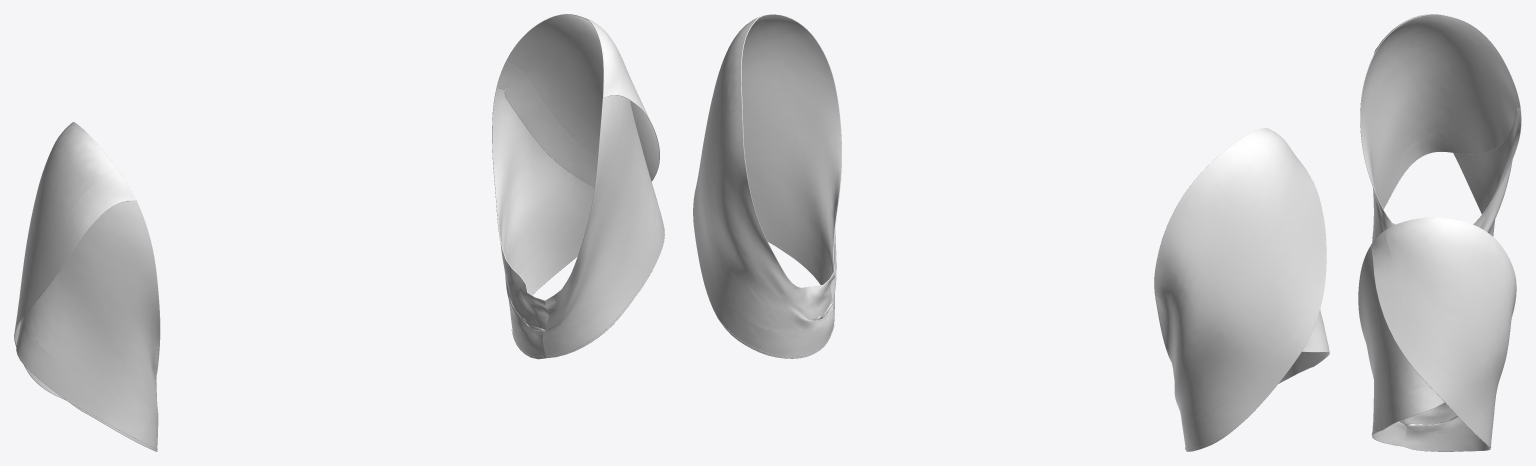
Rendered from petal_sleeve.glb.
The picture shows the model from 3 angles, left to right: view 1: azimuth 30°, elevation 25°; view 2: azimuth 150°, elevation 25°; view 3: azimuth 270°, elevation 25°; orthographic projection. The views are drawn at different scales.
Parts seen in each view (by area): view 1: sleeve_Node, sleeve_2_Node, sleeve_3_Node, Contrast_Node, sleeve_1_Node, Contrast_2_Node, Contrast_1_Node, Contrast_3_Node; view 2: sleeve_1_Node, sleeve_Node, sleeve_3_Node, Contrast_3_Node, Contrast_1_Node, Contrast_Node, Contrast_2_Node; view 3: sleeve_3_Node, sleeve_2_Node, Contrast_1_Node, sleeve_Node, Contrast_2_Node, sleeve_1_Node, Contrast_Node, Contrast_3_Node.
Boxes of the visible parts, bbox=[...] form: sleeve_Node: bbox=[506, 14, 658, 336]; sleeve_2_Node: bbox=[23, 122, 160, 429]; sleeve_3_Node: bbox=[492, 14, 644, 335]; Contrast_Node: bbox=[497, 61, 664, 358]; sleeve_1_Node: bbox=[19, 122, 117, 300]; Contrast_2_Node: bbox=[16, 317, 157, 451]; Contrast_1_Node: bbox=[510, 64, 659, 359]; Contrast_3_Node: bbox=[14, 170, 136, 400]; sleeve_1_Node: bbox=[1154, 128, 1310, 426]; sleeve_Node: bbox=[741, 14, 841, 307]; sleeve_3_Node: bbox=[696, 14, 834, 334]; Contrast_3_Node: bbox=[1182, 146, 1326, 451]; Contrast_1_Node: bbox=[693, 22, 833, 358]; Contrast_Node: bbox=[743, 133, 834, 321]; Contrast_2_Node: bbox=[1157, 246, 1329, 383]; sleeve_3_Node: bbox=[1386, 218, 1516, 432]; sleeve_2_Node: bbox=[1360, 14, 1513, 237]; Contrast_1_Node: bbox=[1370, 230, 1492, 451]; sleeve_Node: bbox=[1358, 217, 1494, 428]; Contrast_2_Node: bbox=[1372, 83, 1520, 242]; sleeve_1_Node: bbox=[1391, 14, 1521, 236]; Contrast_Node: bbox=[1372, 279, 1516, 446]; Contrast_3_Node: bbox=[1373, 31, 1493, 235].
Bounding box in the file's own units: 47.52 × 23.38 × 13.06.
Materials: 28 (4 with a texture image).
